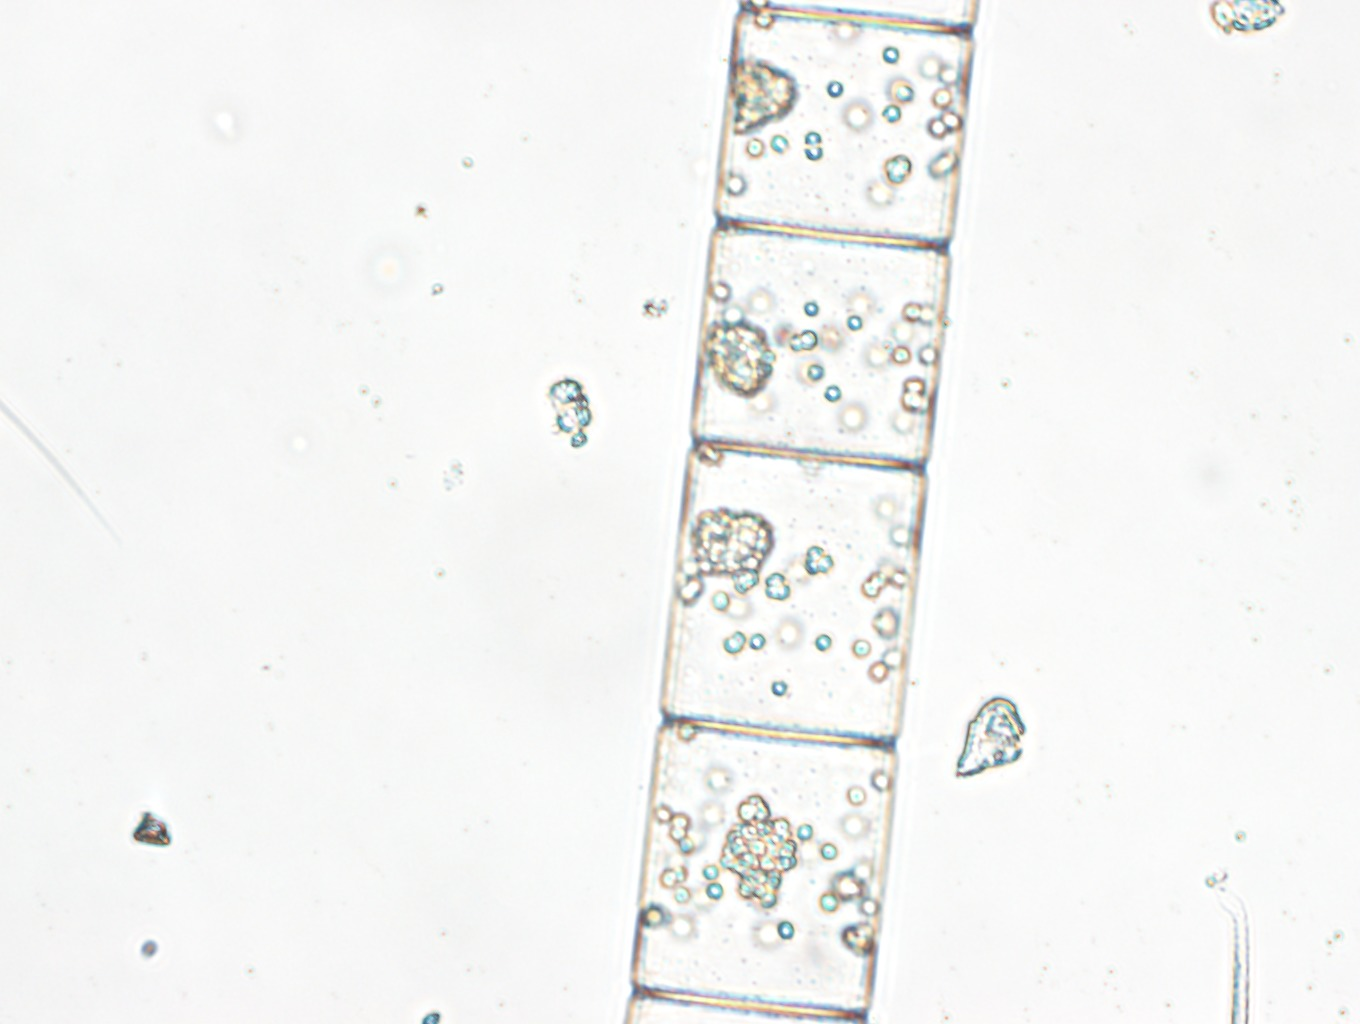guinardia flaccida: (620, 1, 980, 1024)
